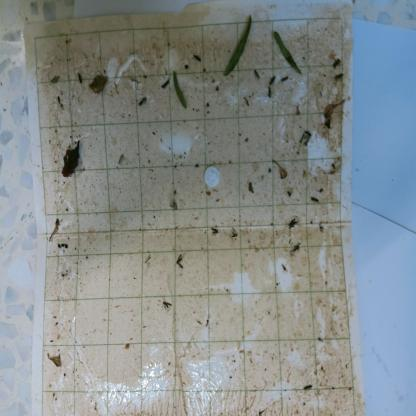prays_oleae: (132, 92, 148, 109), (172, 253, 186, 271), (285, 215, 299, 232), (266, 86, 278, 104), (292, 244, 304, 258), (332, 54, 342, 70), (210, 224, 221, 238), (192, 51, 202, 66), (267, 73, 277, 85), (162, 299, 172, 310), (336, 73, 344, 85)
